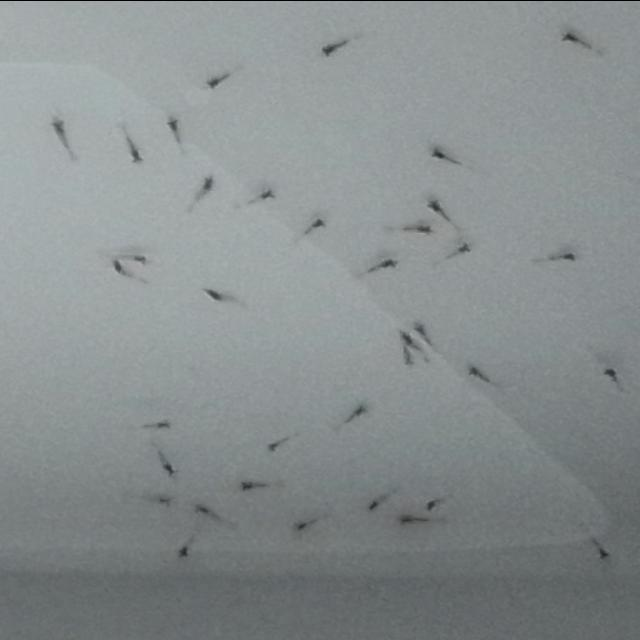shrimp-seed: (49, 116, 68, 140), (376, 254, 398, 270), (128, 145, 146, 163), (162, 116, 180, 134), (198, 175, 216, 193), (561, 30, 581, 46), (257, 186, 277, 202), (424, 198, 444, 214), (202, 286, 220, 302), (264, 438, 282, 453), (412, 320, 430, 335), (238, 478, 257, 492), (154, 417, 174, 430), (192, 500, 208, 516), (163, 462, 180, 477), (205, 76, 223, 90), (111, 257, 125, 275), (131, 252, 149, 266), (352, 402, 368, 417), (416, 223, 436, 235), (156, 494, 172, 508), (560, 248, 576, 262), (602, 365, 618, 379), (398, 512, 416, 524), (455, 242, 473, 254), (594, 548, 612, 560), (423, 497, 438, 511), (429, 147, 445, 160), (398, 330, 412, 344), (293, 520, 309, 532), (310, 216, 326, 228), (367, 498, 382, 510), (466, 365, 481, 377), (322, 42, 336, 54), (177, 546, 190, 558), (402, 356, 414, 367)
